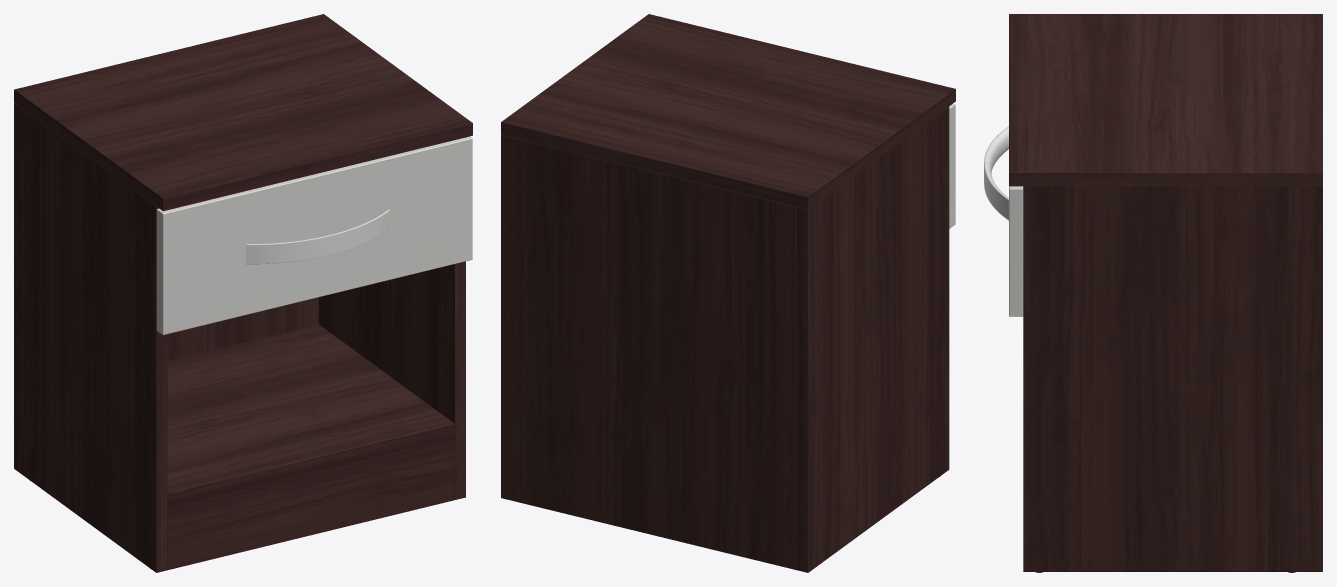
Rendered from abo-B079TZ7JZJ.glb.
3 renders of one model, left to right at view 1: azimuth 30°, elevation 25°; view 2: azimuth 150°, elevation 25°; view 3: azimuth 270°, elevation 25°, orthographic. The views are drawn at different scales.
Size of the model in its own units: 0.4 by 0.47 by 0.36.
1 material, 1 textured.
